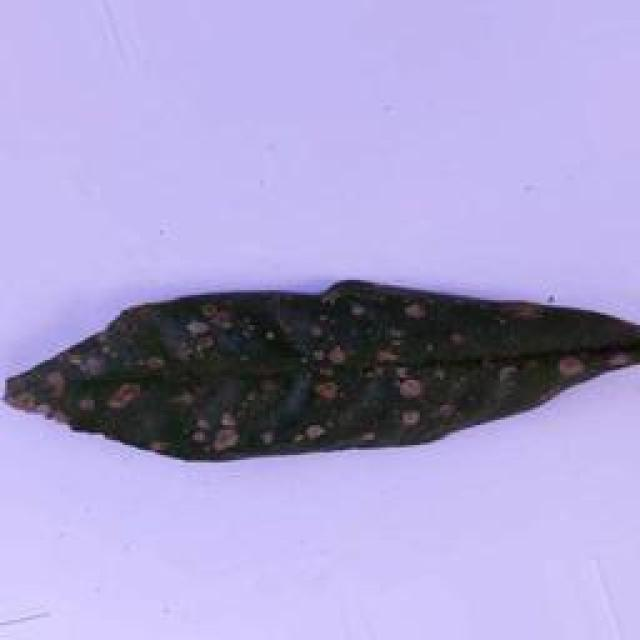Algal Leaf Spot: (0, 273, 638, 489)
